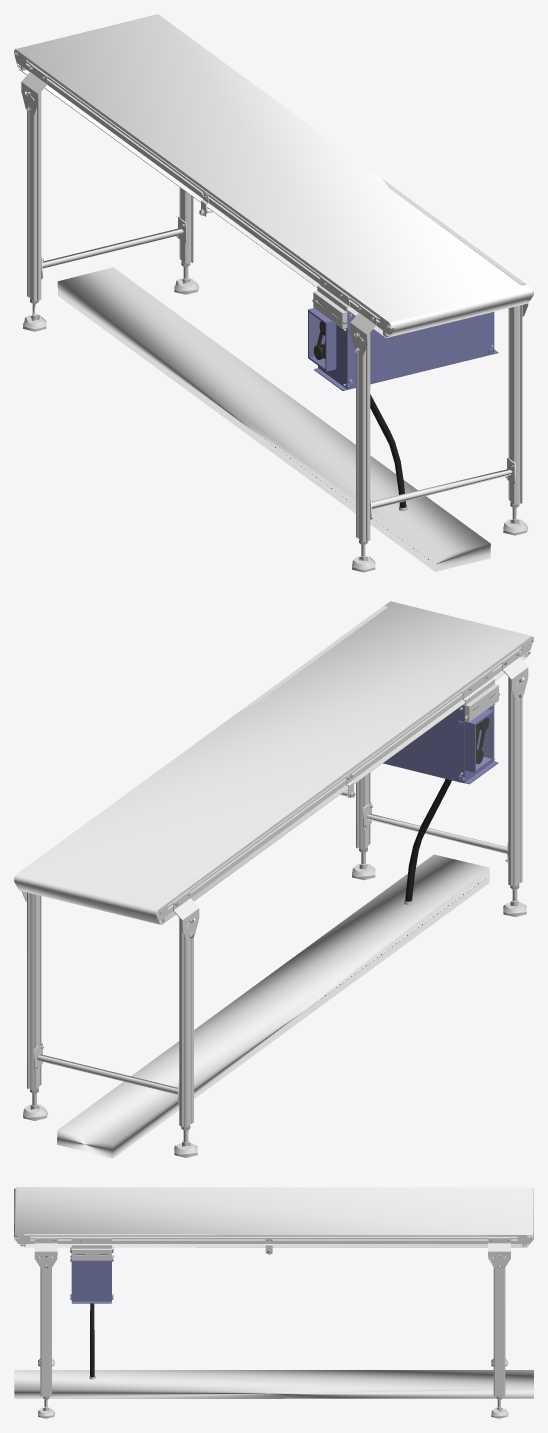
The picture shows the model from 3 angles, top to bottom: view 1: azimuth 30°, elevation 25°; view 2: azimuth 150°, elevation 25°; view 3: azimuth 270°, elevation 25°; orthographic projection. The views are drawn at different scales.
Visible parts, largest first — view 1: 05_belt, 05_cablebox, 05_sus, 05_box, 05_plate, 05_leg, 05_cable, 05_acryl; view 2: 05_belt, 05_cablebox, 05_sus, 05_box, 05_plate, 05_leg, 05_cable, 05_acryl; view 3: 05_belt, 05_cablebox, 05_sus, 05_plate, 05_box, 05_leg, 05_cable.
Boxes of the visible parts, x1,y1,x2,y2 form: 05_belt: (14, 14, 533, 337); 05_cablebox: (57, 267, 490, 571); 05_sus: (15, 53, 530, 541); 05_box: (308, 302, 498, 390); 05_plate: (21, 64, 528, 355); 05_leg: (23, 266, 528, 572); 05_cable: (370, 394, 406, 507); 05_acryl: (309, 313, 324, 367); 05_belt: (14, 601, 533, 925); 05_cablebox: (57, 854, 489, 1158); 05_sus: (27, 606, 532, 1127); 05_box: (383, 695, 498, 784); 05_plate: (21, 650, 528, 940); 05_leg: (23, 852, 526, 1157); 05_cable: (405, 779, 451, 901); 05_acryl: (476, 714, 491, 769); 05_belt: (14, 1187, 533, 1247); 05_cablebox: (14, 1370, 533, 1398); 05_sus: (14, 1234, 533, 1396); 05_plate: (34, 1238, 510, 1268); 05_box: (70, 1249, 113, 1303); 05_leg: (38, 1358, 508, 1418); 05_cable: (90, 1303, 94, 1377).
Size of the model in its own units: 0.5998 by 0.8499 by 2.25.
